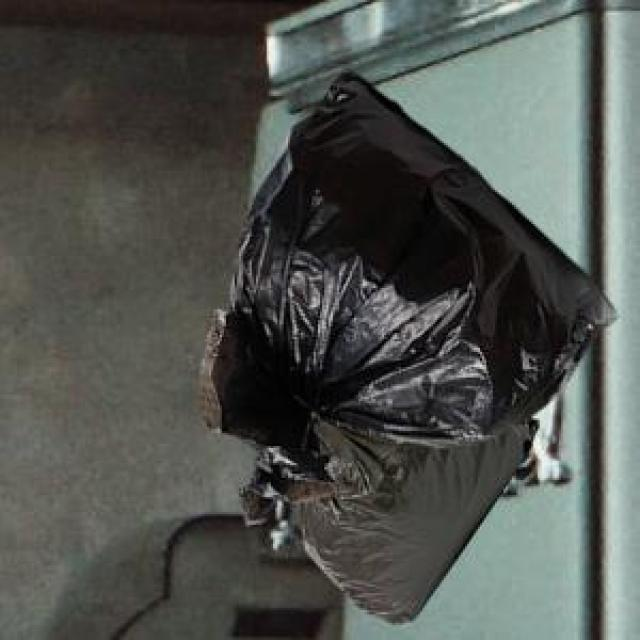Trashbag: (219, 59, 606, 447), (287, 423, 524, 620)
